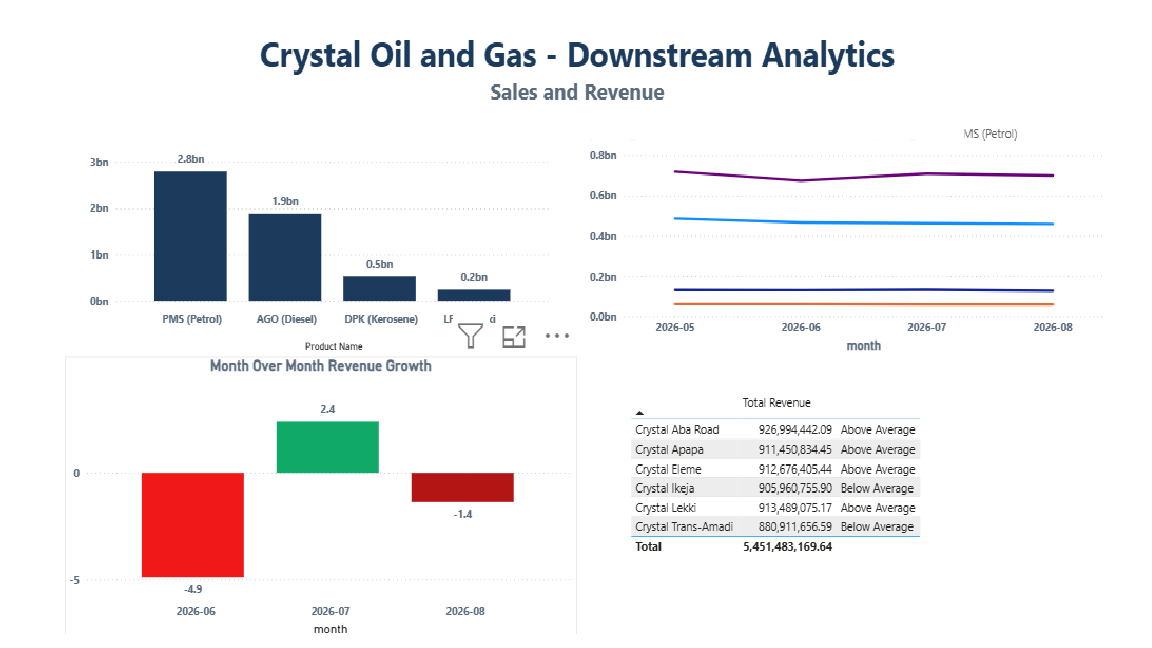

What the dashboard file says about the page in this screenshot:
{"tool":"powerbi","page":{"name":"Sales and Revenue","canvas":[1280,720],"ordinal":1},"visuals":[{"type":"clusteredColumnChart","title":"Revenue By Product","fields":{"Category":["vw_product_revenue.product_name"],"Y":["Sum(vw_product_revenue.total_revenue)"]},"box":[43.5,156.9,561.3,257],"z":0},{"type":"lineChart","title":"Monthly Trend by Products","fields":{"Category":["vw_product_monthly_trend.month"],"Y":["Sum(vw_product_monthly_trend.total_revenue)"],"Series":["vw_product_monthly_trend.product_name"]},"box":[640.6,134.2,623.6,279.7],"z":1000},{"type":"clusteredColumnChart","title":"Month Over Month Revenue Growth","fields":{"Category":["vw_monthly_revenue_growth.month"],"Y":["Sum(vw_monthly_revenue_growth.growth_pct)"]},"box":[18.9,413.9,612.3,306.1],"z":2000},{"type":"tableEx","fields":{"Values":["vw_station_vs_average.station_name","Sum(vw_station_vs_average.total_revenue)","vw_station_vs_average.performance_flag"]},"box":[689.8,447.9,463,247.6],"z":3000},{"type":"textbox","box":[168.2,56.7,926,124.7],"z":4000}]}

Visuals, with their boxes in screenshot pixels (x1, y1, x2, y2), scaled from the page's 1280x720 canvas onto the 1152x648 screenshot:
"Revenue By Product" clusteredColumnChart: select_region(39, 141, 544, 373)
"Monthly Trend by Products" lineChart: select_region(577, 121, 1138, 373)
"Month Over Month Revenue Growth" clusteredColumnChart: select_region(17, 373, 568, 647)
tableEx - vw_station_vs_average.station_name x Sum(vw_station_vs_average.total_revenue): select_region(621, 403, 1038, 626)
textbox: select_region(151, 51, 985, 163)
